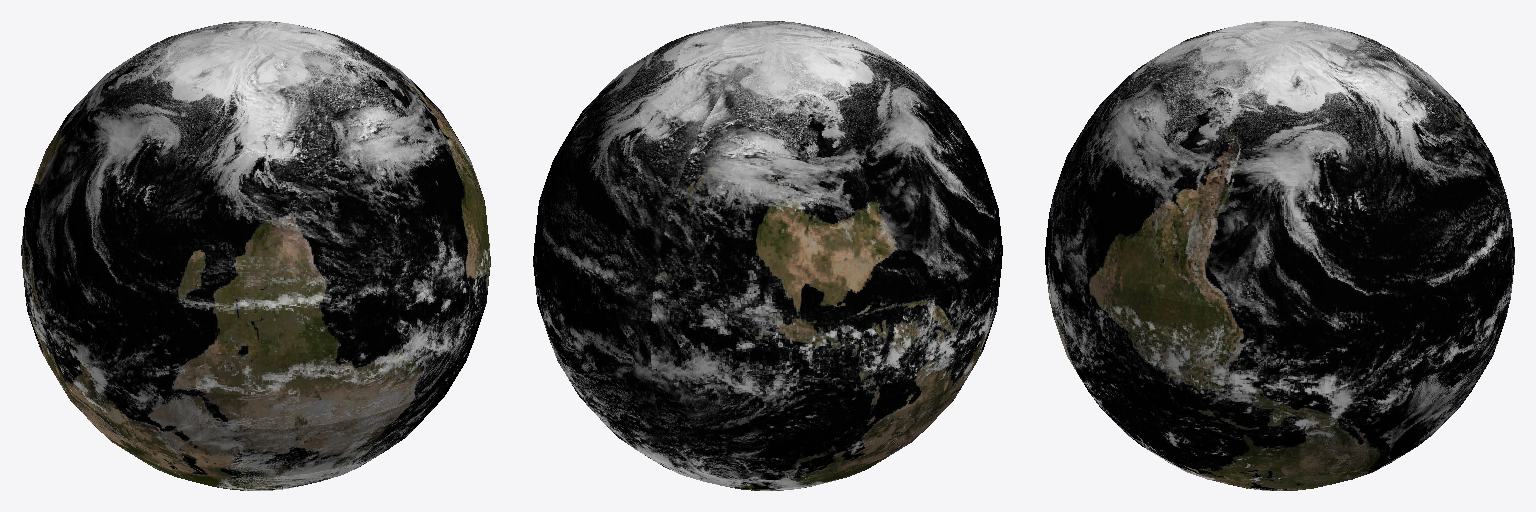
3 views of the same model, side by side, from view 1: azimuth 30°, elevation 25°; view 2: azimuth 150°, elevation 25°; view 3: azimuth 270°, elevation 25° (orthographic).
Parts seen in each view (by area): view 1: EarthClouds; view 2: EarthClouds; view 3: EarthClouds.
Part boxes in pixels (x1,y1,x2,y2): EarthClouds: (21,21,490,490); EarthClouds: (533,21,1002,490); EarthClouds: (1045,21,1514,490).
Bounding box in the file's own units: 1226 × 1226 × 1226.
Materials: 1 (1 with a texture image).